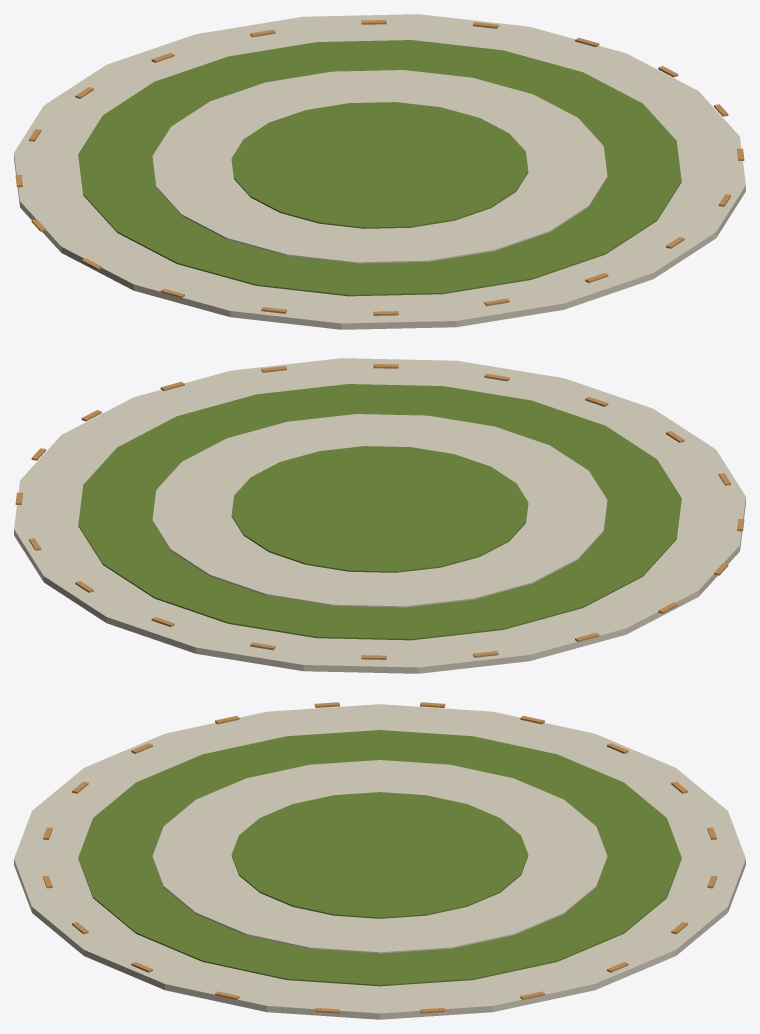
The model's file is rug_round.glb.
3 renders of one model, top to bottom at view 1: azimuth 30°, elevation 25°; view 2: azimuth 150°, elevation 25°; view 3: azimuth 270°, elevation 25°, orthographic.
Visible parts, largest first — view 1: rug_round; view 2: rug_round; view 3: rug_round.
Boxes of the visible parts, left/top/right/bottom form: rug_round: left=14, top=14, right=745, bottom=329; rug_round: left=14, top=358, right=745, bottom=673; rug_round: left=14, top=702, right=745, bottom=1019.
Bounding box in the file's own units: 1.48 × 0.023 × 1.48.
